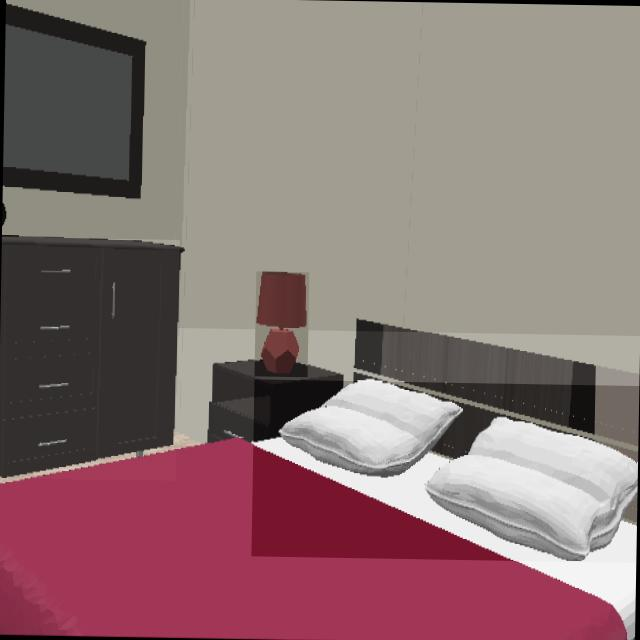bed: (0, 331, 639, 640)
cabinet: (0, 237, 179, 478)
lamp: (255, 271, 308, 376)
pillow: (253, 381, 638, 561)
